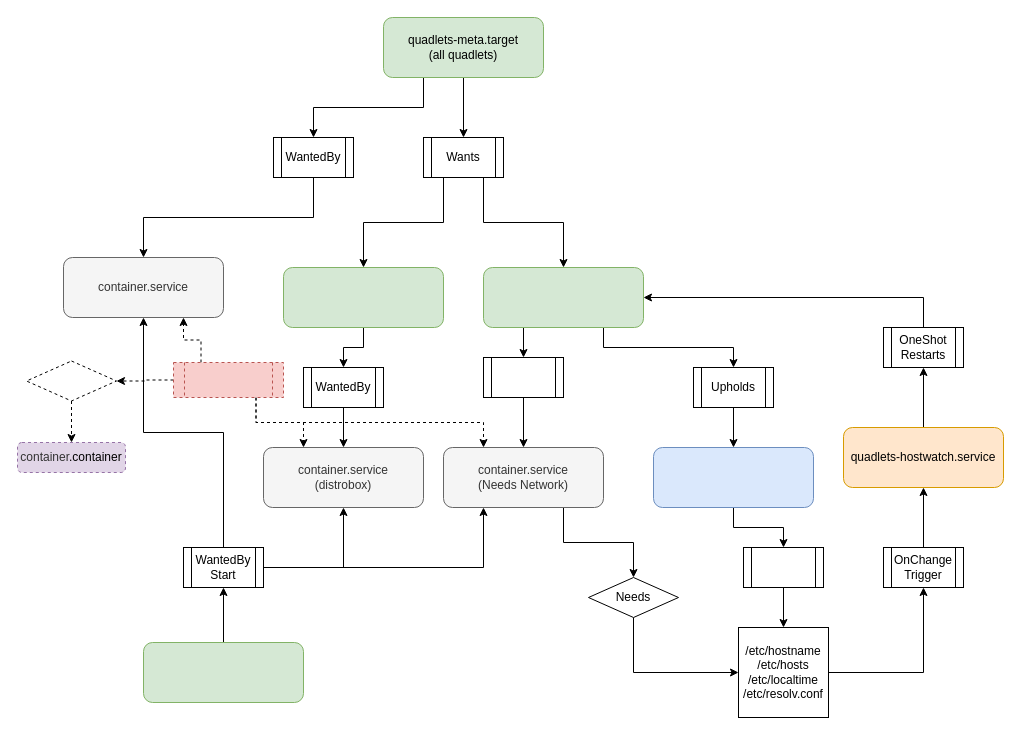
This 1021x735 diagram has some shape labels left out. The box of each missing label's shape, as (x1, y1, x2, y2) in pixels:
From: (26, 360, 116, 401)
Monitors: (742, 546, 824, 588)
PartOf: (482, 356, 564, 398)
quadlets-distrobox.target (distrobox quadlets): (282, 266, 444, 328)
quadlets-hostwatch.path: (652, 446, 814, 508)
quadlets-hostwatch.target ( hostwatched quadlets): (482, 266, 644, 328)
SERVICENAME.target (individual quadlet): (142, 642, 304, 702)
systemd.generator Generates: (172, 362, 284, 398)
